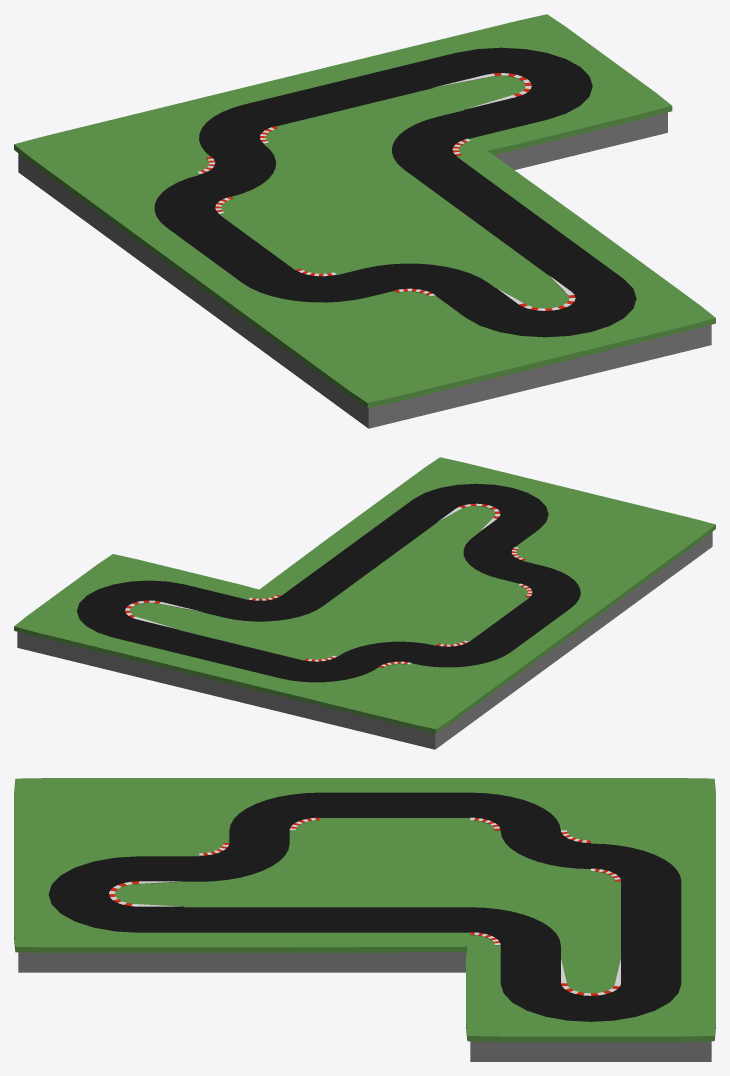
File: track.fbx
The picture shows the model from 3 angles, top to bottom: view 1: azimuth 30°, elevation 25°; view 2: azimuth 150°, elevation 25°; view 3: azimuth 270°, elevation 25°; orthographic projection. The views are drawn at different scales.
Parts seen in each view (by area): view 1: Plane; view 2: Plane; view 3: Plane.
Boxes of the visible parts, left/top/right/bottom form: Plane: left=14, top=14, right=715, bottom=428; Plane: left=14, top=457, right=715, bottom=749; Plane: left=14, top=778, right=715, bottom=1061.
Bounding box in the file's own units: 10148 × 509 × 11648.
